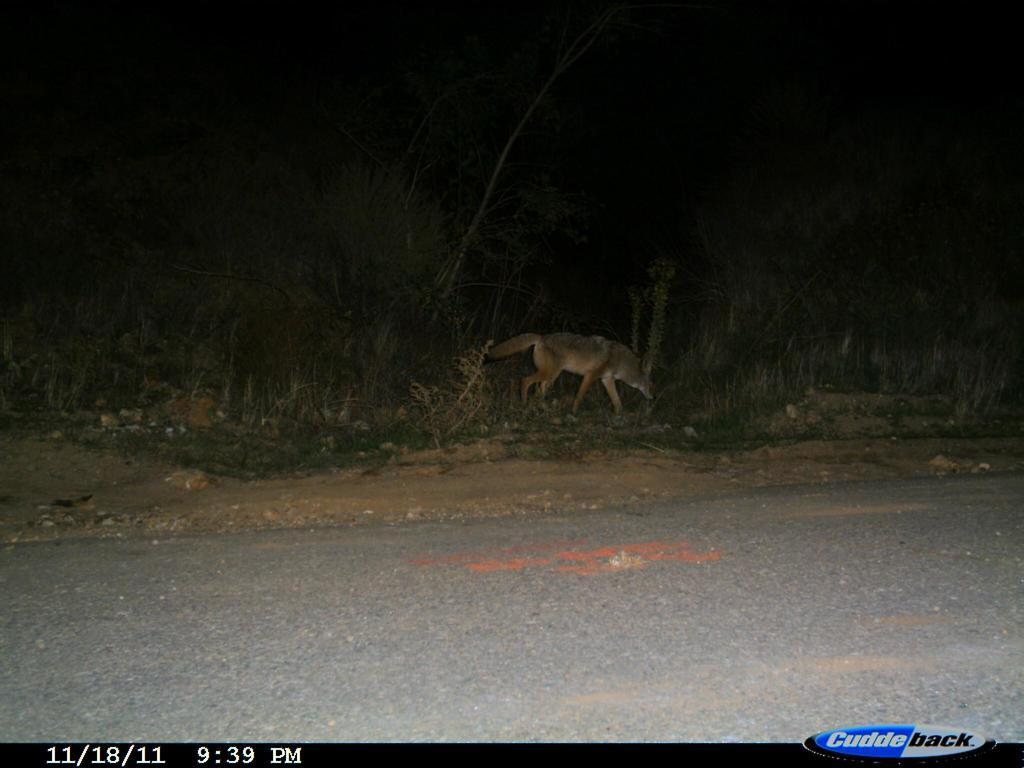coyote: (475, 319, 666, 432)
